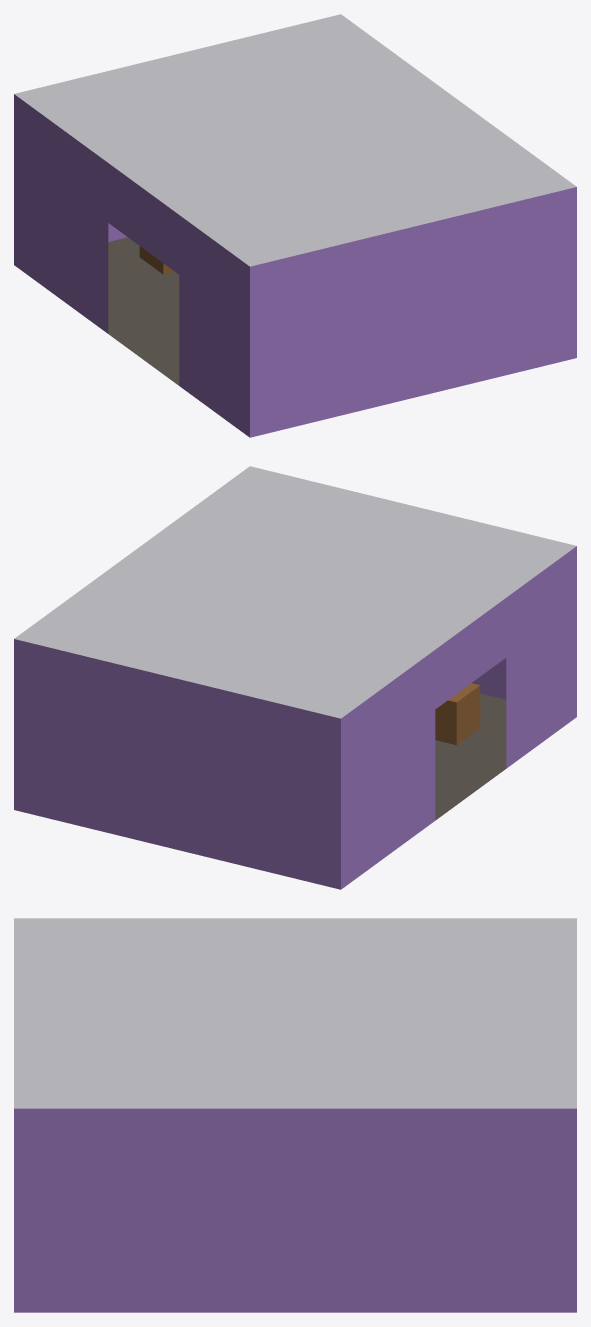
The model's file is level_fps_E.obj.
The picture shows the model from 3 angles, top to bottom: view 1: azimuth 30°, elevation 25°; view 2: azimuth 150°, elevation 25°; view 3: azimuth 270°, elevation 25°; orthographic projection. The views are drawn at different scales.
Visible parts, largest first — view 1: E_side; view 2: E_side; view 3: E_side.
Part boxes in pixels (<box>): E_side: <box>14,14,576,437</box>; E_side: <box>14,466,576,889</box>; E_side: <box>14,918,576,1312</box>.
Size of the model in its own units: 8 by 4 by 10.
